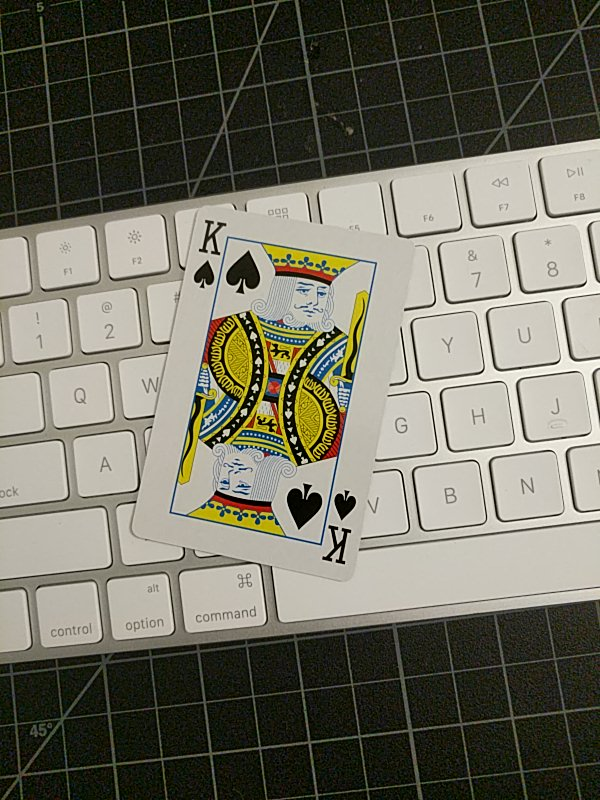Spades: (129, 205, 416, 585)
